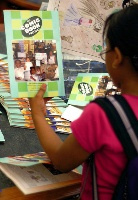person: (29, 3, 138, 200)
